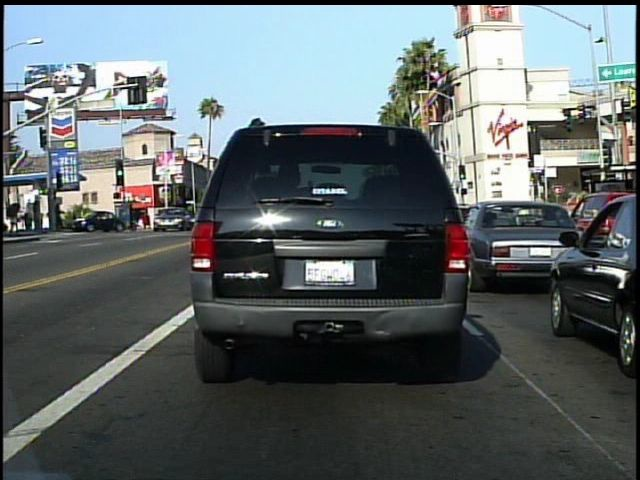person: (4, 199, 25, 237)
